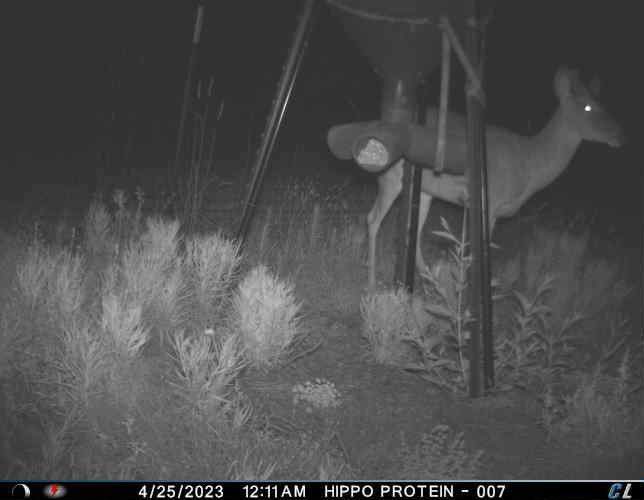Deer: (356, 59, 631, 296)
